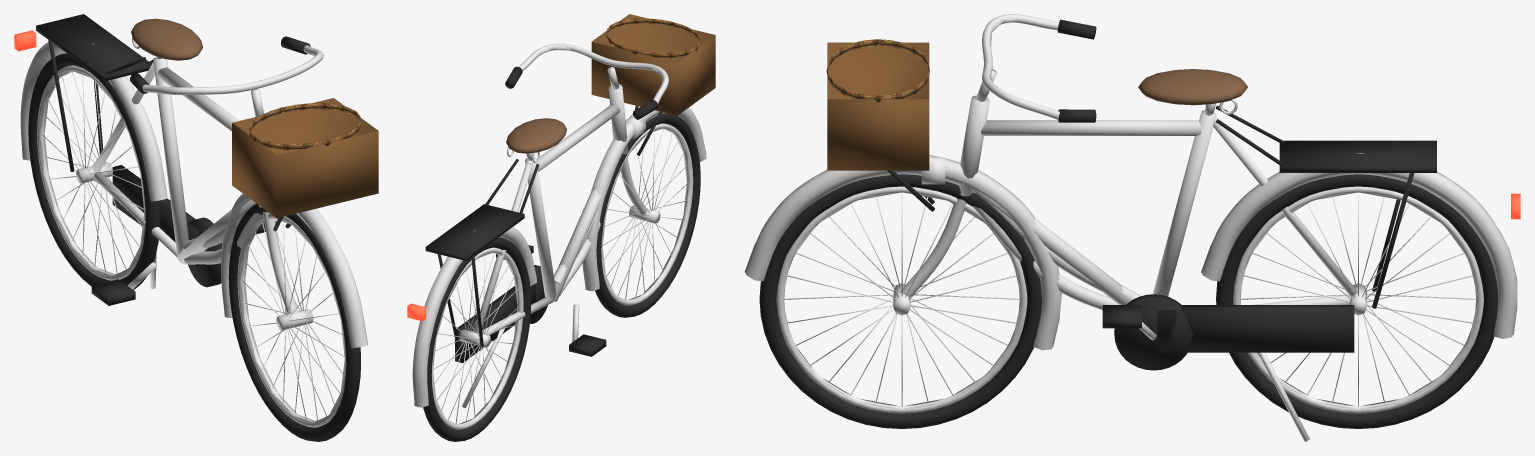
The model's file is omafiets.glb.
3 views of the same model, side by side, from view 1: azimuth 30°, elevation 25°; view 2: azimuth 150°, elevation 25°; view 3: azimuth 270°, elevation 25° (orthographic). The views are drawn at different scales.
Parts seen in each view (by area): view 1: oma_black, oma_basket, oma_frame, oma_chrome, oma_lo_black, oma_lo_chrome, oma_leather, opa_frame, oma_lo_frame, oma_tail; view 2: oma_black, oma_frame, oma_chrome, oma_basket, oma_lo_black, opa_frame, oma_lo_chrome, oma_leather, oma_lo_frame, opa_lo_frame; view 3: oma_black, oma_frame, oma_chrome, oma_lo_black, oma_basket, opa_frame, oma_lo_chrome, oma_lo_frame, oma_leather.
Part boxes in pixels (left/top/right/bottom): oma_black: left=28, top=14, right=360, bottom=441; oma_basket: left=232, top=98, right=378, bottom=218; oma_frame: left=20, top=42, right=367, bottom=348; oma_chrome: left=37, top=37, right=346, bottom=427; oma_lo_black: left=29, top=15, right=347, bottom=436; oma_lo_chrome: left=39, top=45, right=344, bottom=422; oma_leather: left=131, top=18, right=202, bottom=60; opa_frame: left=157, top=67, right=255, bottom=264; oma_lo_frame: left=21, top=43, right=367, bottom=346; oma_tail: left=14, top=30, right=36, bottom=51; oma_black: left=423, top=66, right=700, bottom=441; oma_frame: left=412, top=84, right=706, bottom=407; oma_chrome: left=431, top=43, right=693, bottom=429; oma_basket: left=591, top=14, right=715, bottom=115; oma_lo_black: left=426, top=67, right=699, bottom=437; opa_frame: left=537, top=104, right=621, bottom=301; oma_lo_chrome: left=433, top=44, right=691, bottom=425; oma_leather: left=506, top=118, right=566, bottom=153; oma_lo_frame: left=415, top=90, right=705, bottom=407; opa_lo_frame: left=538, top=106, right=620, bottom=301; oma_black: left=759, top=19, right=1498, bottom=428; oma_frame: left=746, top=95, right=1516, bottom=350; oma_chrome: left=776, top=14, right=1483, bottom=441; oma_lo_black: left=767, top=19, right=1492, bottom=424; oma_basket: left=826, top=39, right=929, bottom=170; opa_frame: left=971, top=120, right=1200, bottom=304; oma_lo_chrome: left=782, top=14, right=1477, bottom=409; oma_lo_frame: left=744, top=101, right=1517, bottom=347; oma_leather: left=1138, top=69, right=1247, bottom=105.
Size of the model in its own units: 0.5731 by 1.05 by 1.97.
Materials: 7 (1 with a texture image).
